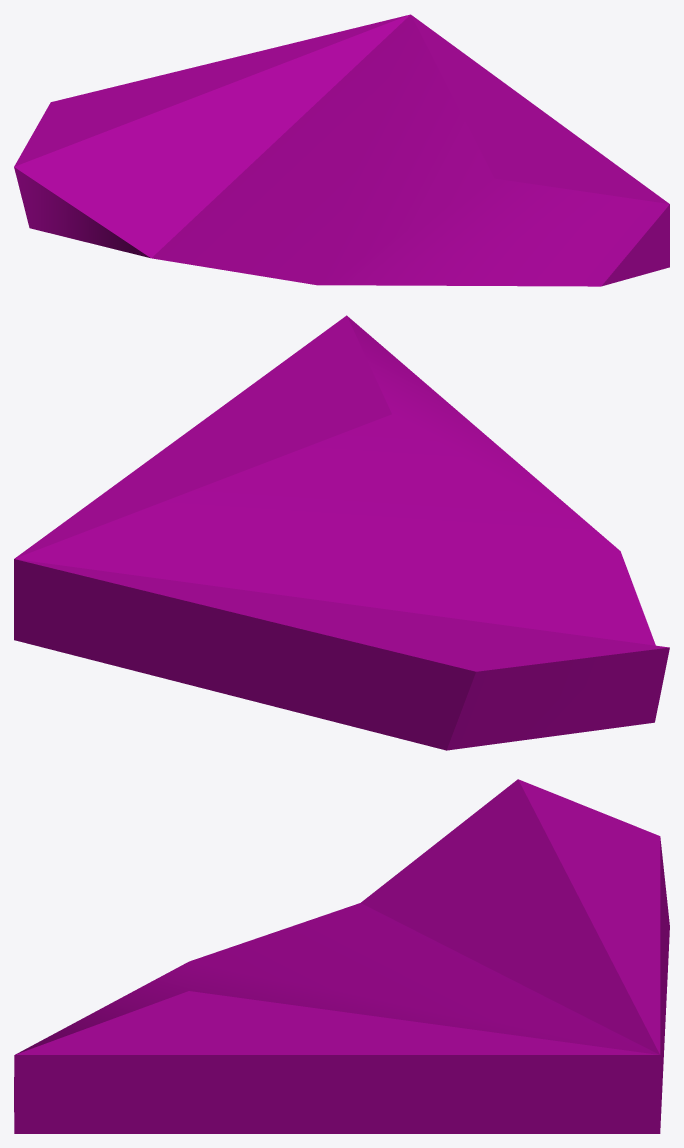
Rendered from Collider_Broken_Ceiling_002.fbx.
3 renders of one model, top to bottom at view 1: azimuth 30°, elevation 25°; view 2: azimuth 150°, elevation 25°; view 3: azimuth 270°, elevation 25°, orthographic. The views are drawn at different scales.
Visible parts, largest first — view 1: Collider_Broken_Ceiling_002; view 2: Collider_Broken_Ceiling_002; view 3: Collider_Broken_Ceiling_002.
Part boxes in pixels (<box>): Collider_Broken_Ceiling_002: <box>14,14,669,286</box>; Collider_Broken_Ceiling_002: <box>14,315,669,750</box>; Collider_Broken_Ceiling_002: <box>14,779,669,1133</box>.
Bounding box in the file's own units: 3.03 × 0.4179 × 3.05.
